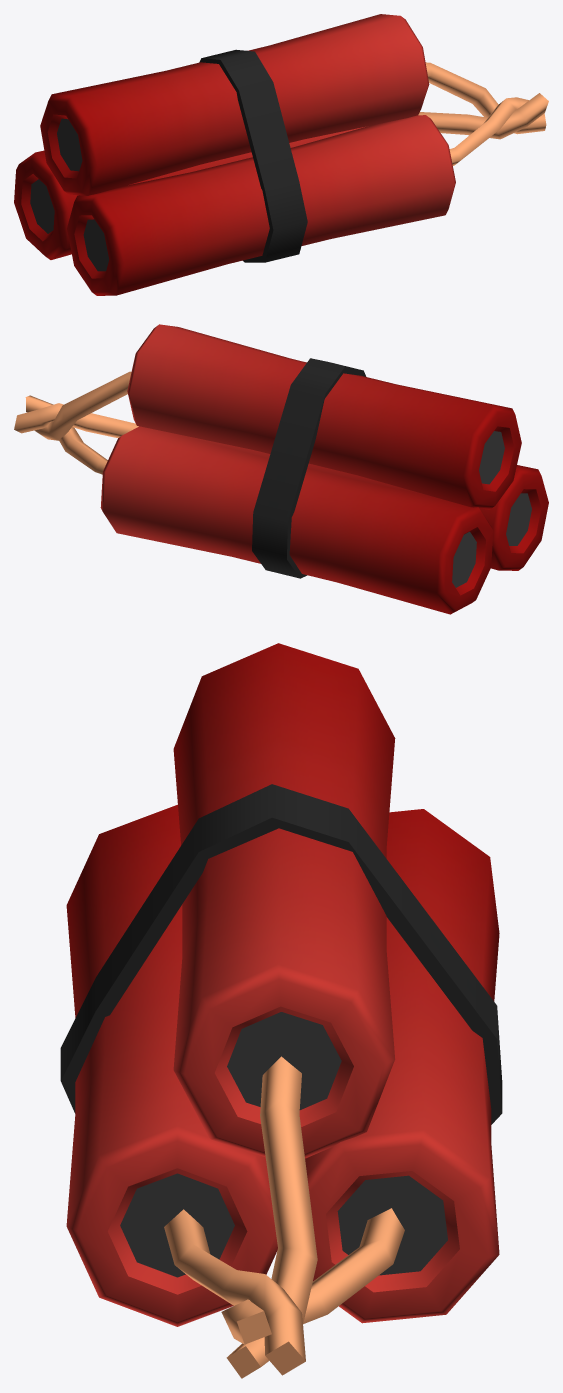
Rendered from dynamite_002.fbx.
The picture shows the model from 3 angles, top to bottom: view 1: azimuth 30°, elevation 25°; view 2: azimuth 150°, elevation 25°; view 3: azimuth 270°, elevation 25°; orthographic projection. The views are drawn at different scales.
Visible parts, largest first — view 1: dynamite_002; view 2: dynamite_002; view 3: dynamite_002.
Part boxes in pixels (bbox=[...]): dynamite_002: bbox=[14, 14, 548, 295]; dynamite_002: bbox=[14, 324, 548, 614]; dynamite_002: bbox=[60, 643, 502, 1378].
Size of the model in its own units: 118 by 47.88 by 44.27.
